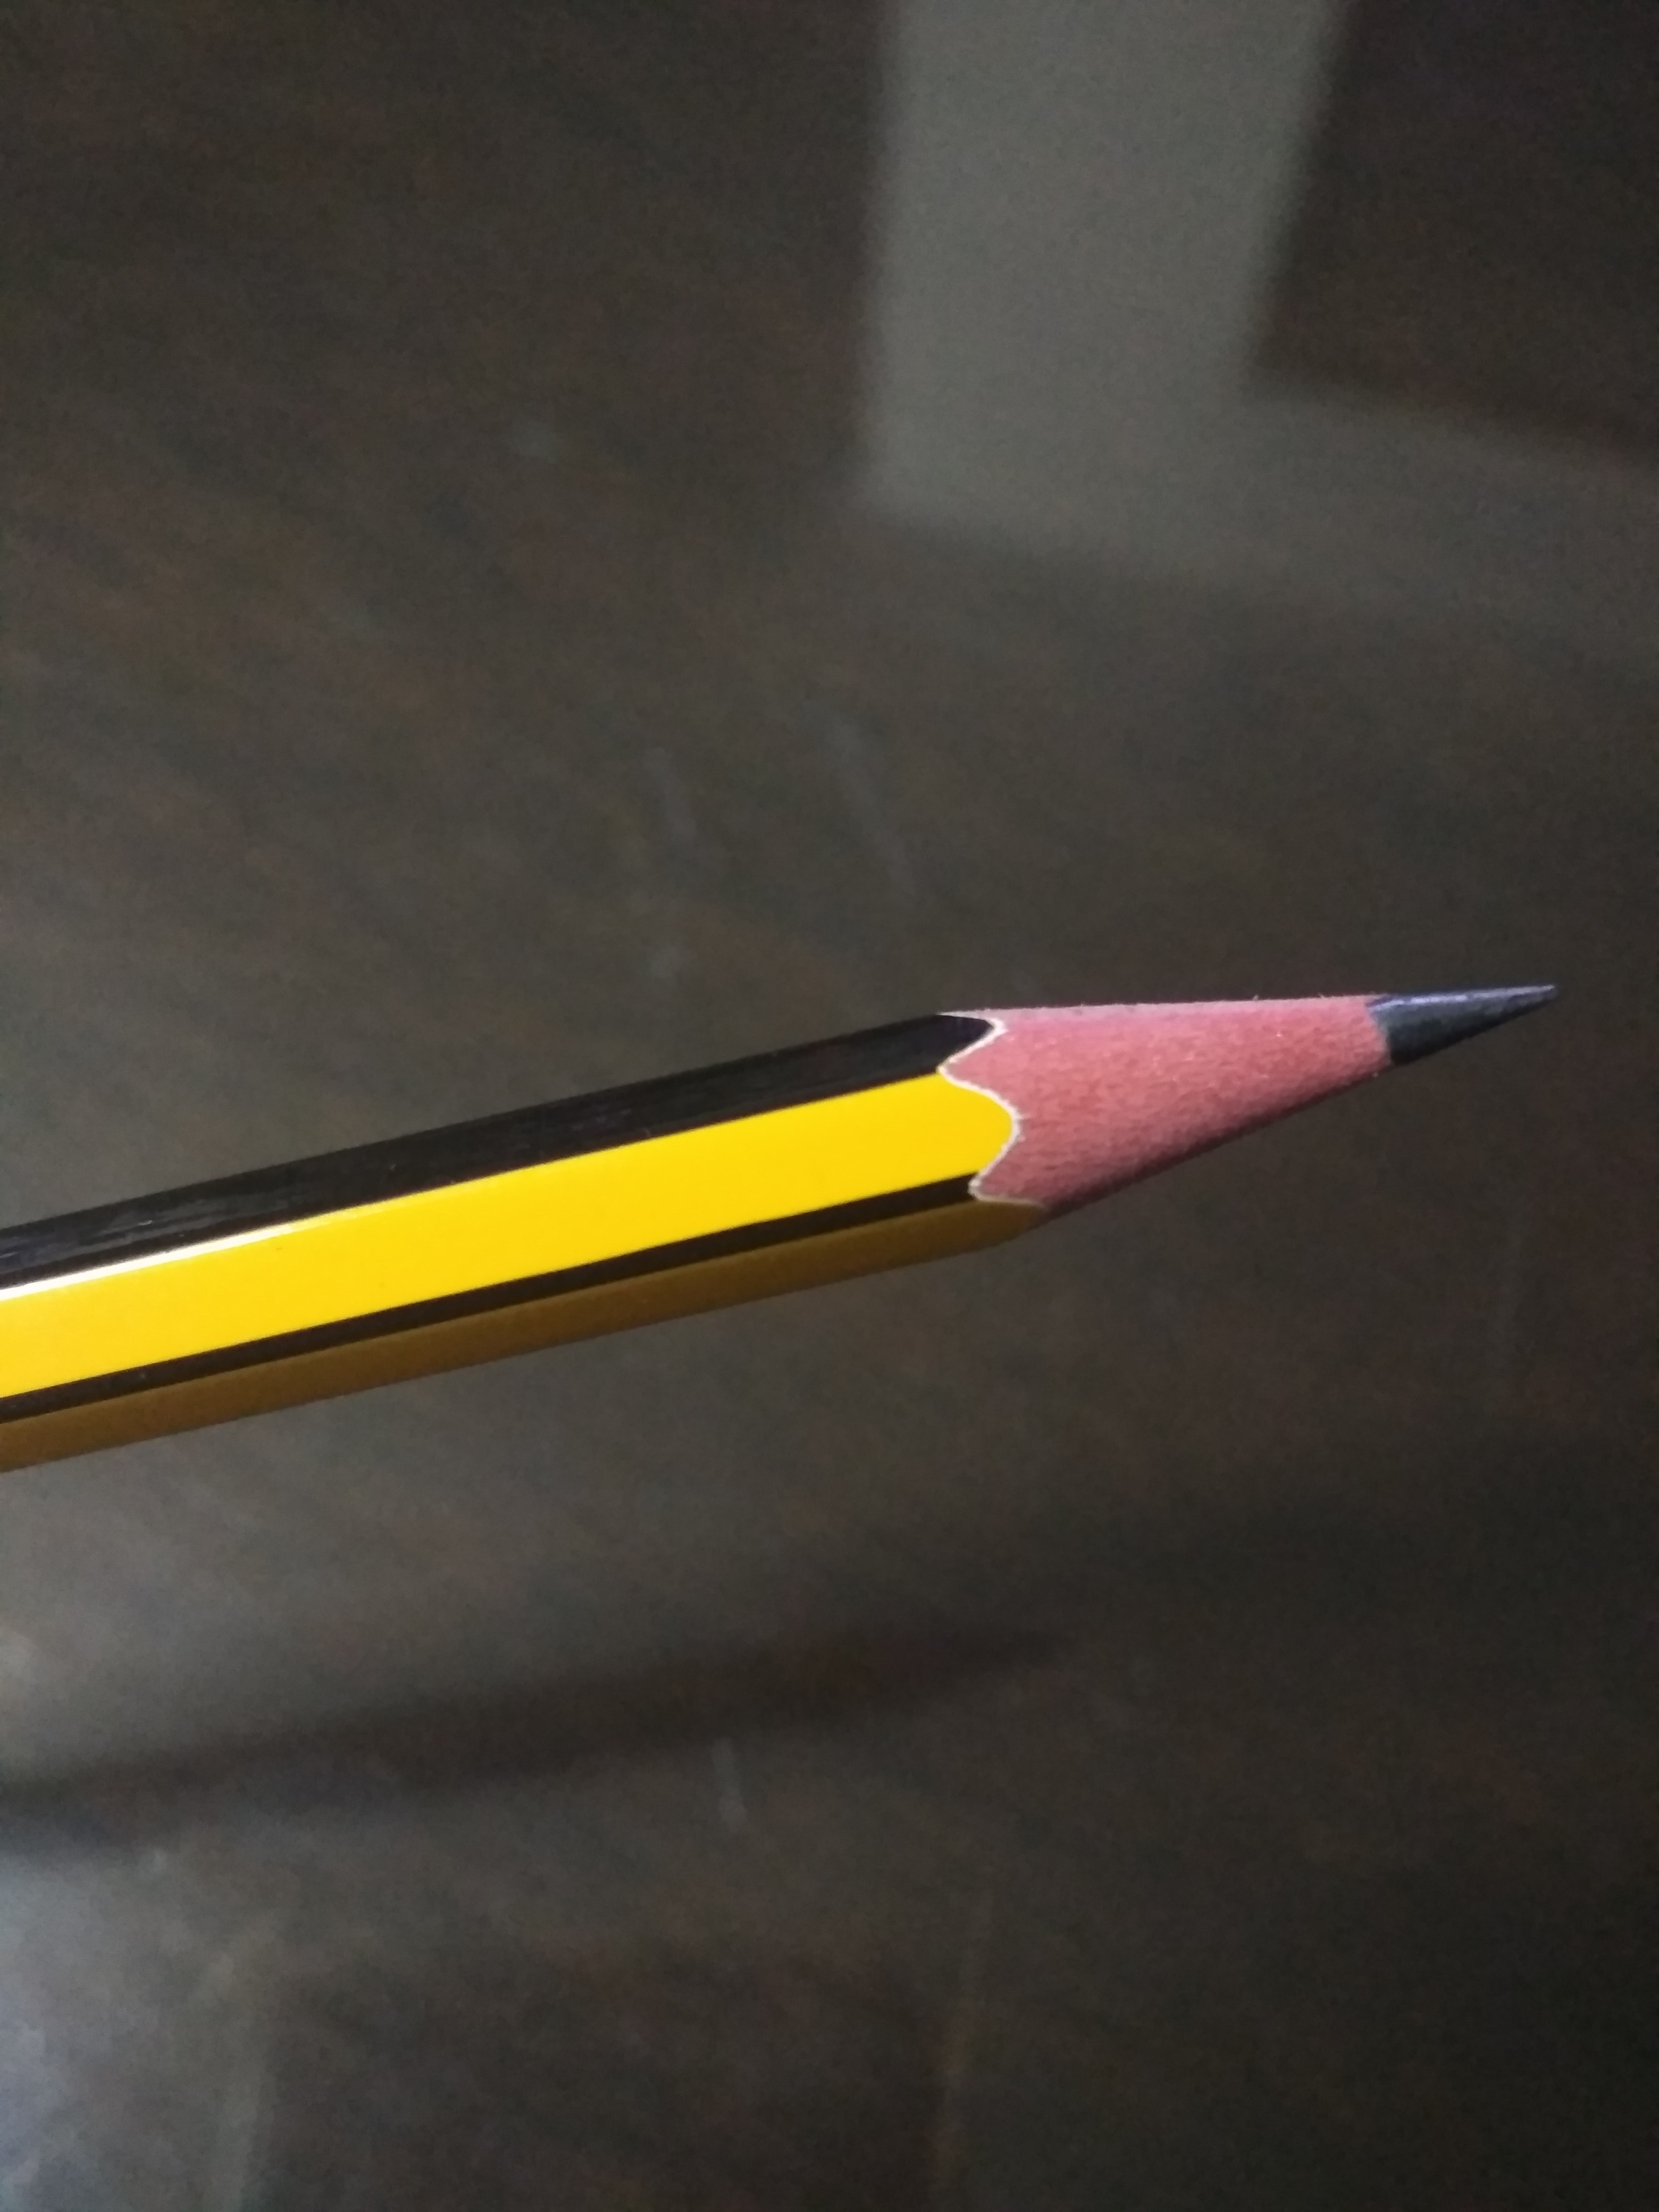pen_tip: (809, 850, 1631, 1291)
